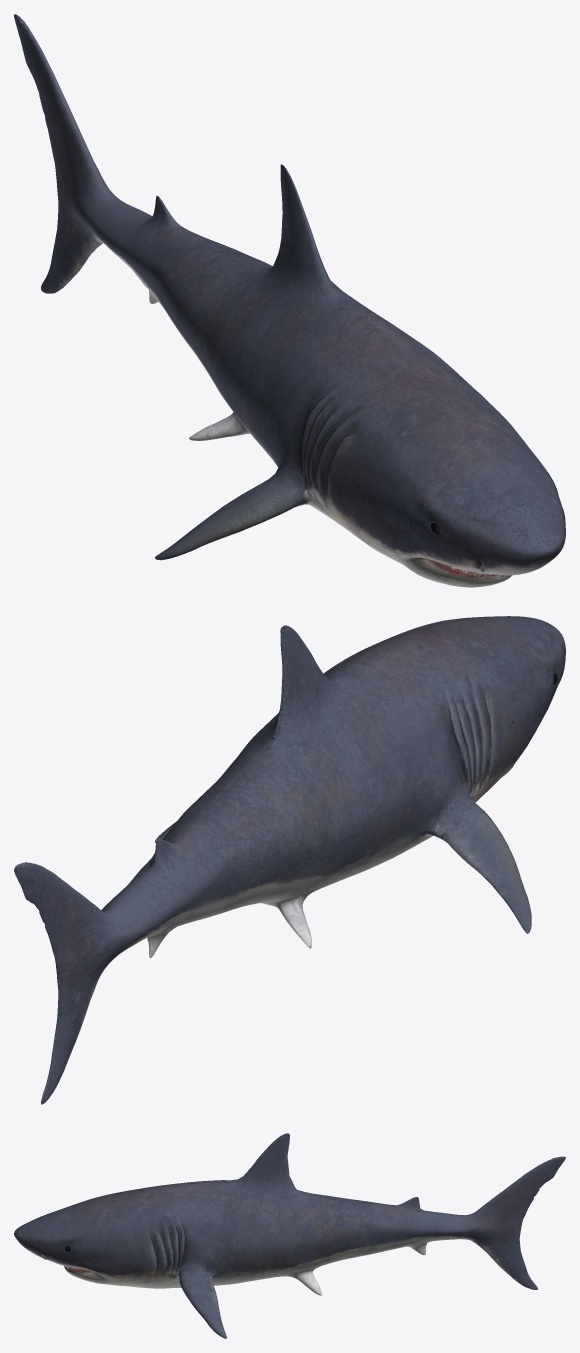
File: tubarao-branco.glb
The picture shows the model from 3 angles, top to bottom: view 1: azimuth 30°, elevation 25°; view 2: azimuth 150°, elevation 25°; view 3: azimuth 270°, elevation 25°; orthographic projection. The views are drawn at different scales.
Parts seen in each view (by area): view 1: shark.1; view 2: shark.1; view 3: shark.1.
Part boxes in pixels (left/top/right/bottom): shark.1: left=14, top=14, right=565, bottom=587; shark.1: left=14, top=616, right=565, bottom=1104; shark.1: left=14, top=1133, right=565, bottom=1338.
Size of the model in its own units: 0.2246 by 0.1754 by 0.5545.
Materials: 1 (1 with a texture image).
